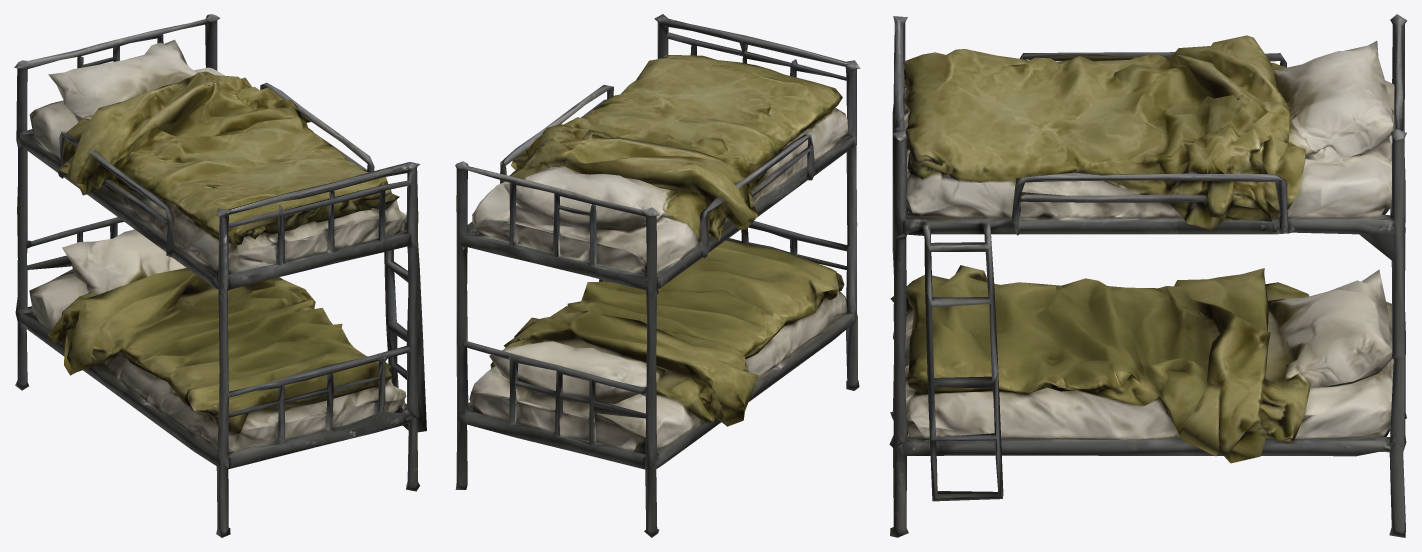
Rendered from bunk-bed.glb.
3 views of the same model, side by side, from view 1: azimuth 30°, elevation 25°; view 2: azimuth 150°, elevation 25°; view 3: azimuth 270°, elevation 25° (orthographic). The views are drawn at different scales.
Visible parts, largest first — view 1: tripo_node_e5720669-132d-4aff-bce5-a4b65302ada4; view 2: tripo_node_e5720669-132d-4aff-bce5-a4b65302ada4; view 3: tripo_node_e5720669-132d-4aff-bce5-a4b65302ada4.
Part boxes in pixels (x1,y1,x2,y2): tripo_node_e5720669-132d-4aff-bce5-a4b65302ada4: [14, 14, 426, 537]; tripo_node_e5720669-132d-4aff-bce5-a4b65302ada4: [455, 14, 860, 537]; tripo_node_e5720669-132d-4aff-bce5-a4b65302ada4: [889, 14, 1407, 537].
Bounding box in the file's own units: 0.6779 × 0.867 × 1.
Materials: 1 (1 with a texture image).
